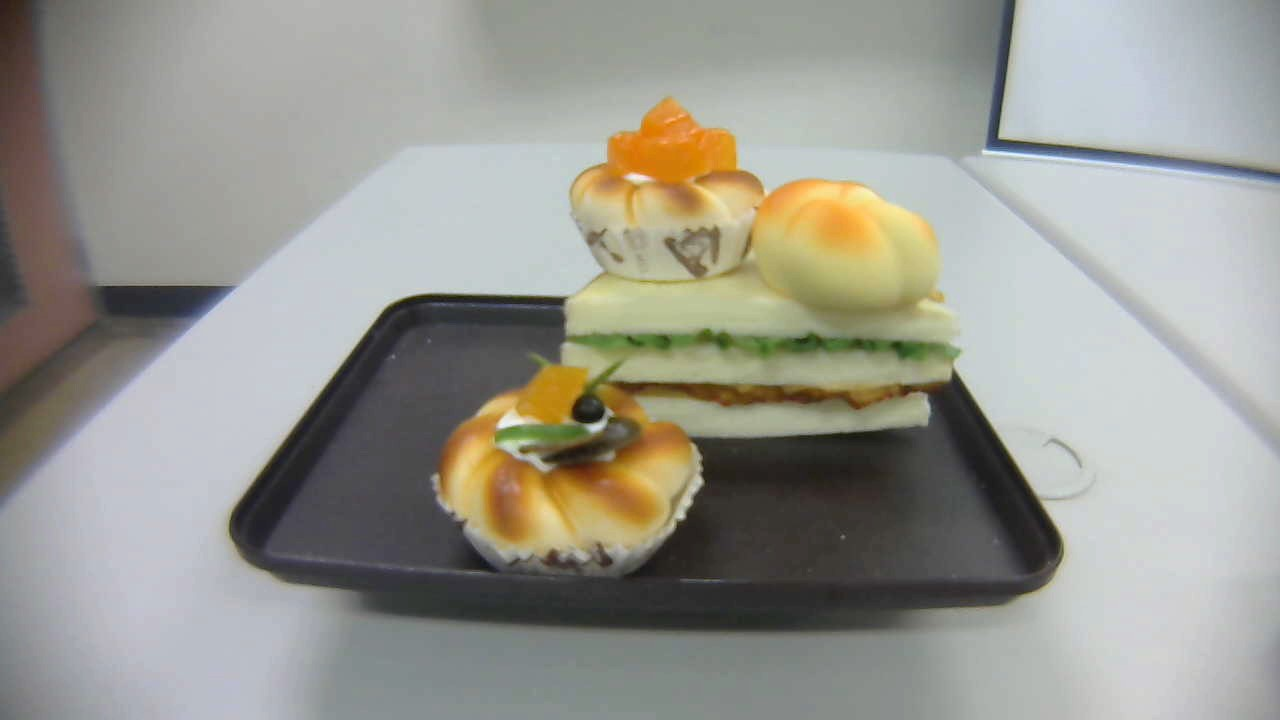fruit tart: (433, 352, 704, 580)
mango tart: (567, 97, 768, 285)
sandwich: (559, 212, 959, 436)
twist bread: (752, 176, 940, 311)
